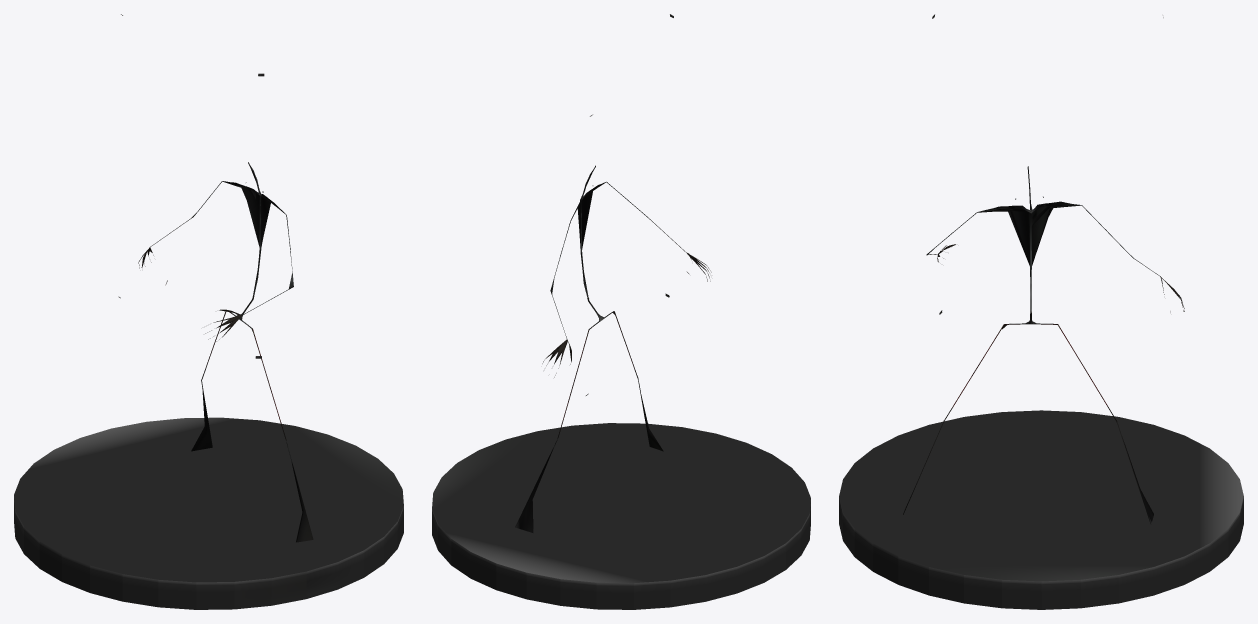
The picture shows the model from 3 angles, left to right: view 1: azimuth 30°, elevation 25°; view 2: azimuth 150°, elevation 25°; view 3: azimuth 270°, elevation 25°; orthographic projection. The views are drawn at different scales.
Parts seen in each view (by area): view 1: highgatekeeper01_generalrouge_reference1.smd; view 2: highgatekeeper01_generalrouge_reference1.smd; view 3: highgatekeeper01_generalrouge_reference1.smd.
Part boxes in pixels (x1,y1,x2,y2): highgatekeeper01_generalrouge_reference1.smd: (14,14,403,609); highgatekeeper01_generalrouge_reference1.smd: (432,14,810,609); highgatekeeper01_generalrouge_reference1.smd: (839,14,1243,609).
Size of the model in its own units: 0.9 by 1.25 by 0.9.
Materials: 1 (1 with a texture image).
